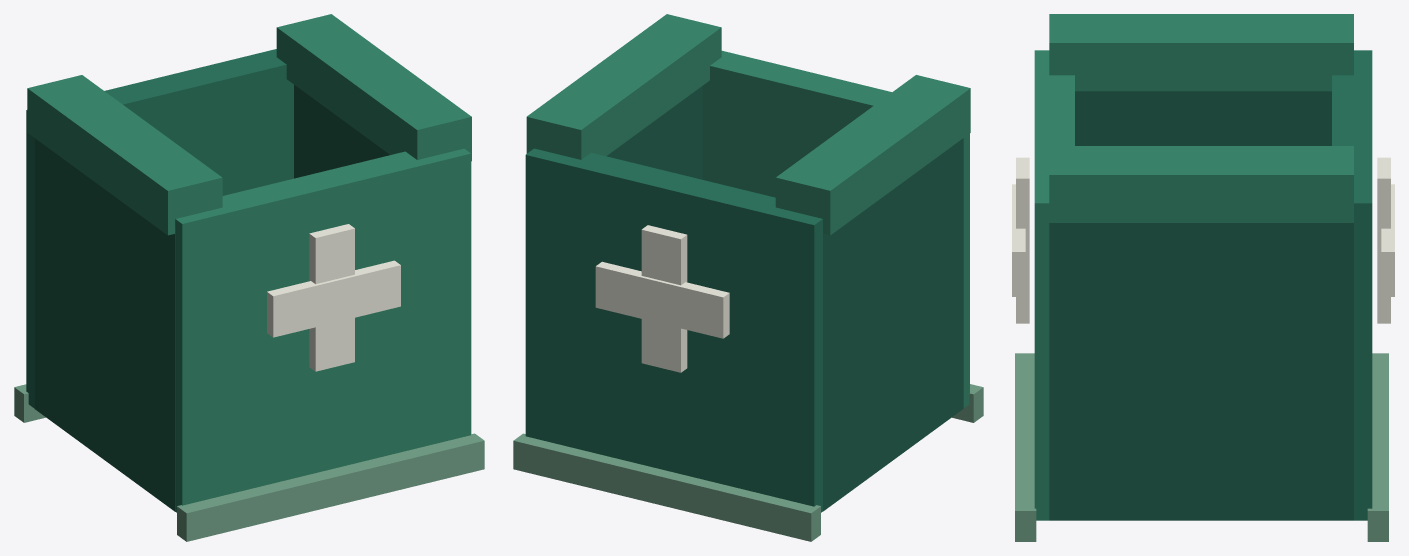
Rendered from lwf_medic_vest_cue_v1.glb.
3 renders of one model, left to right at view 1: azimuth 30°, elevation 25°; view 2: azimuth 150°, elevation 25°; view 3: azimuth 270°, elevation 25°, orthographic. The views are drawn at different scales.
Visible parts, largest first — view 1: LWF_Medic_Vest, LWF_Medic_WhiteCross; view 2: LWF_Medic_Vest, LWF_Medic_WhiteCross; view 3: LWF_Medic_Vest, LWF_Medic_WhiteCross.
Part boxes in pixels (left/top/right/bottom): LWF_Medic_Vest: left=14, top=14, right=484, bottom=541; LWF_Medic_WhiteCross: left=267, top=224, right=400, bottom=371; LWF_Medic_Vest: left=513, top=14, right=983, bottom=541; LWF_Medic_WhiteCross: left=595, top=225, right=729, bottom=372; LWF_Medic_Vest: left=1015, top=14, right=1388, bottom=541; LWF_Medic_WhiteCross: left=1012, top=157, right=1394, bottom=323.
Bounding box in the file's own units: 0.5 × 0.5345 × 0.503.
Materials: 1 (1 with a texture image).
